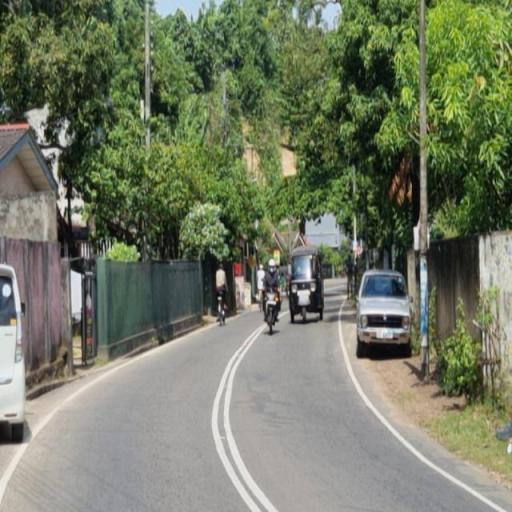double_white_line: (212, 321, 274, 510)
